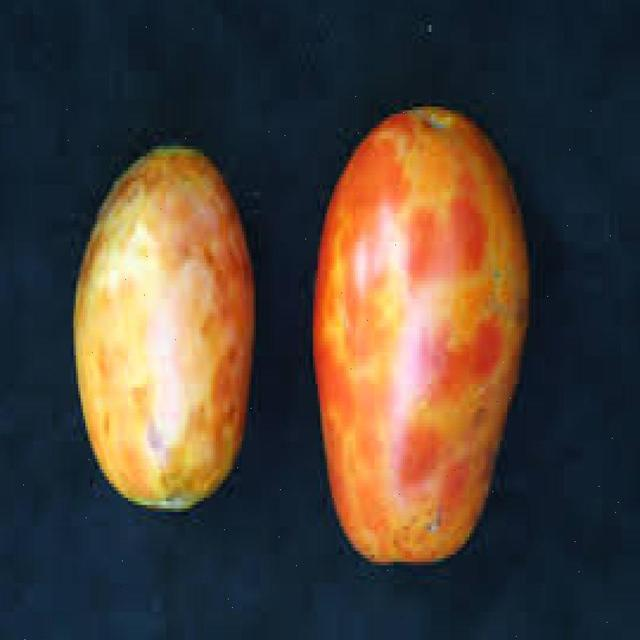Spotted wilt Virus Fruit: (145, 223, 352, 351)
